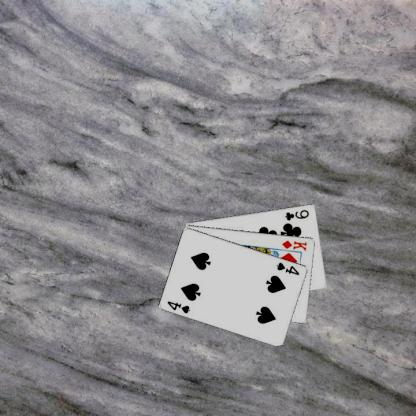4S: (274, 260, 300, 276), (165, 298, 191, 314)
9C: (283, 207, 310, 221)
KD: (280, 237, 308, 252)
